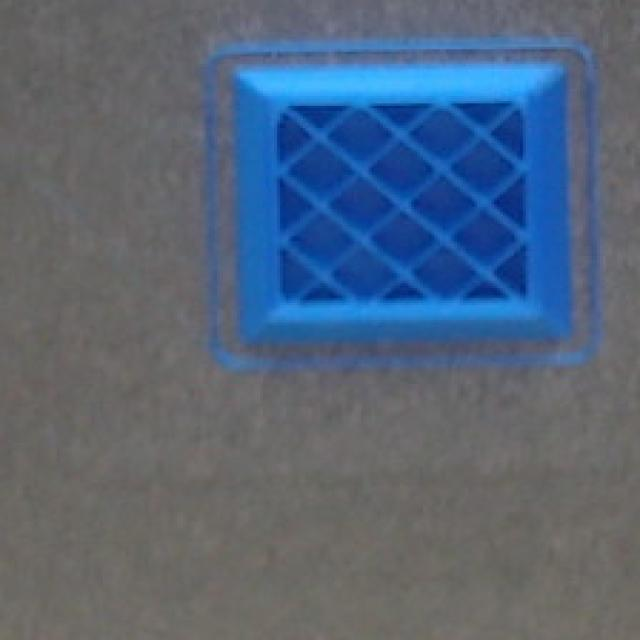noMistake: (216, 37, 606, 375)
